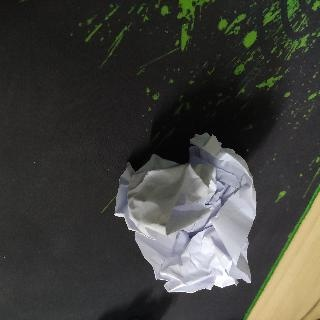8/可回收垃圾/纸: (113, 133, 257, 293)
